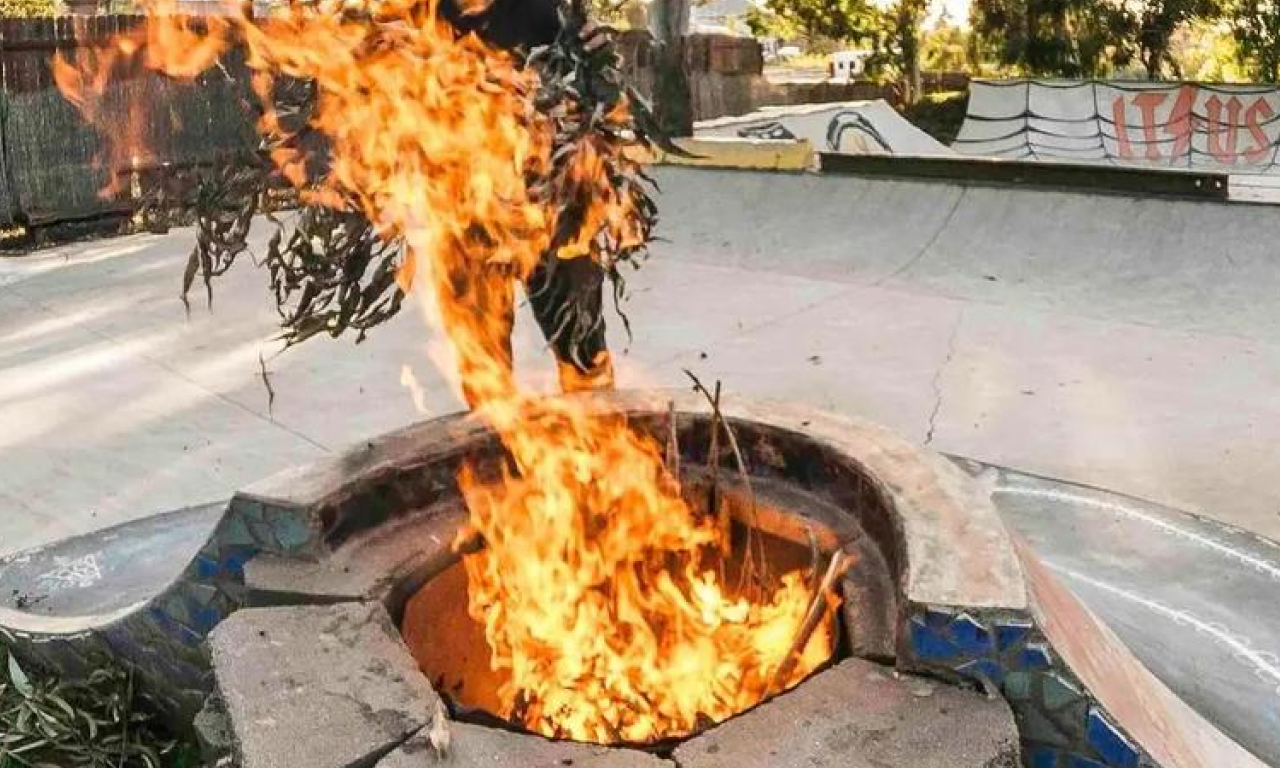fire: (59, 15, 855, 748)
